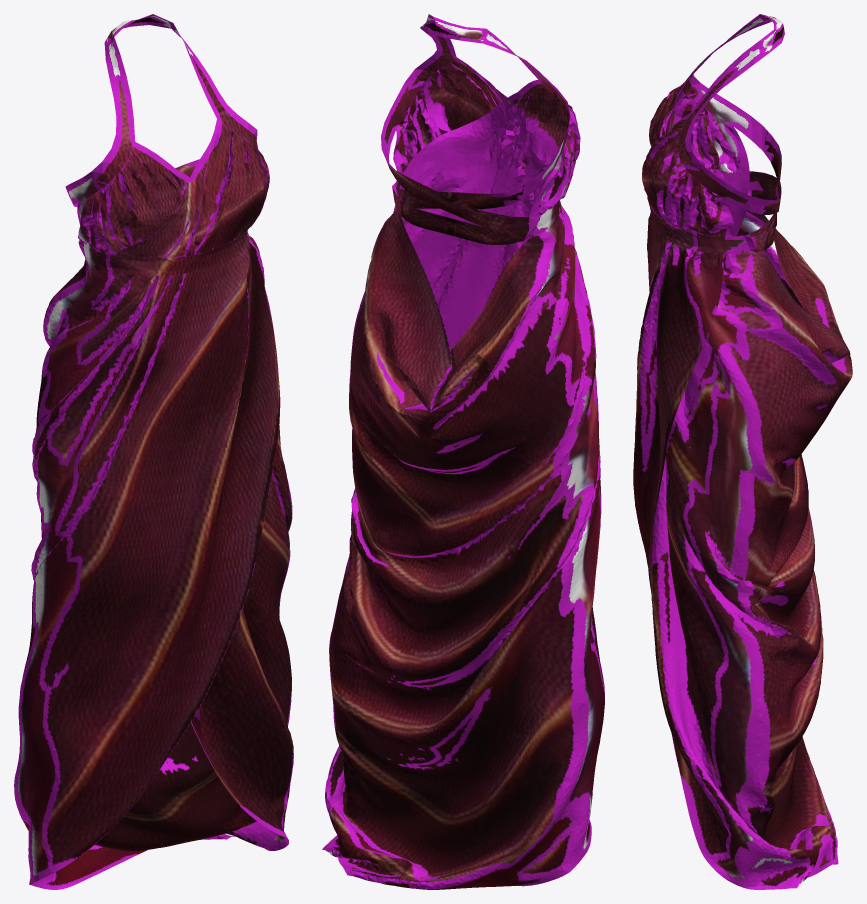
The picture shows the model from 3 angles, left to right: view 1: azimuth 30°, elevation 25°; view 2: azimuth 150°, elevation 25°; view 3: azimuth 270°, elevation 25°; orthographic projection. The views are drawn at different scales.
Bounding box in the file's own units: 0.3569 × 1.11 × 0.2726.
Materials: 1 (1 with a texture image).
